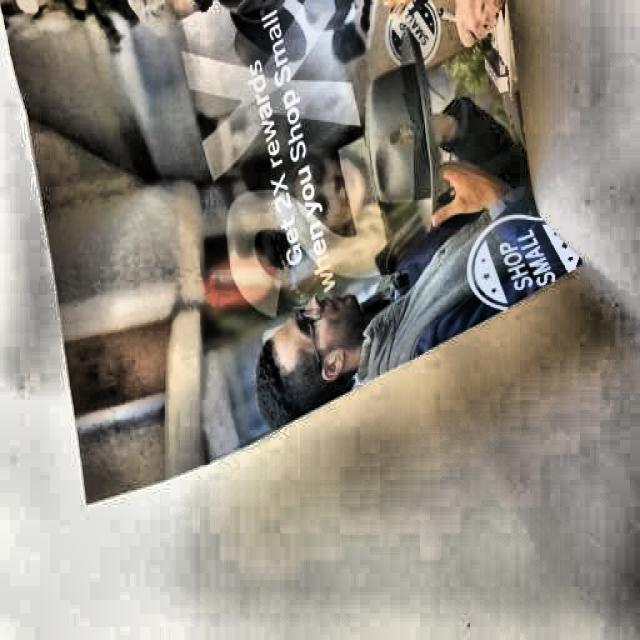paper: (0, 2, 556, 508)
